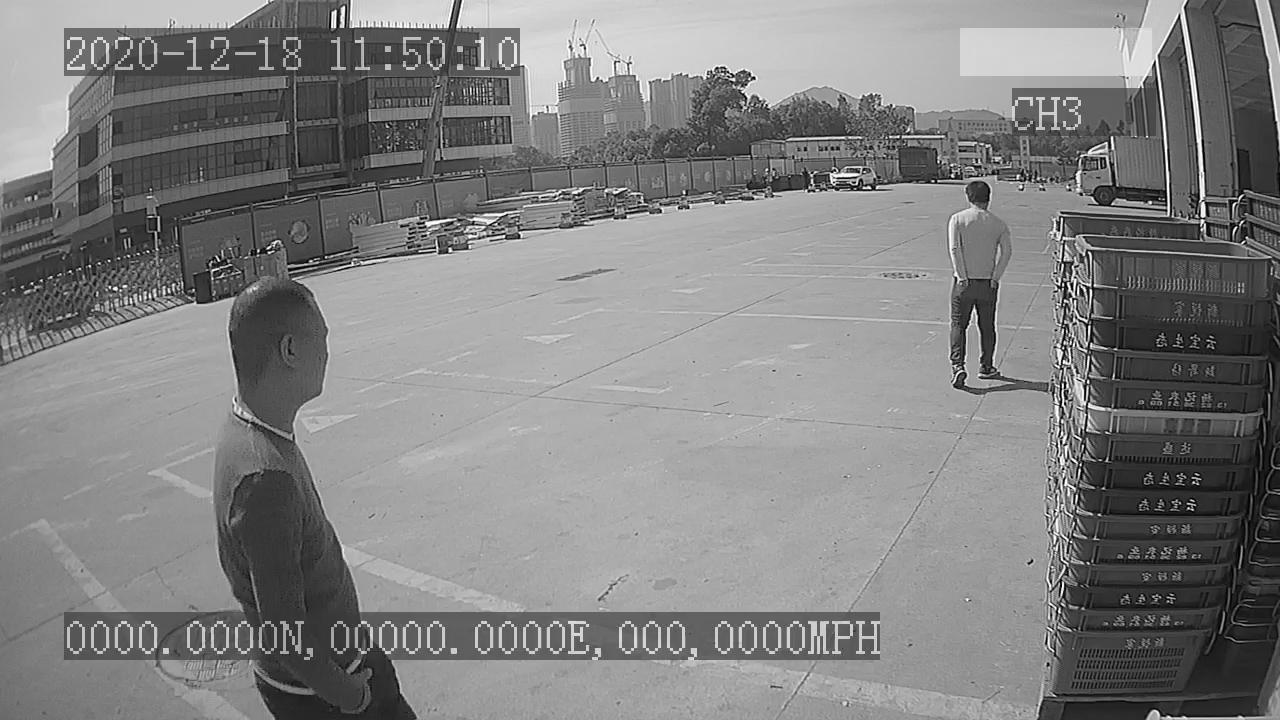person: (940, 176, 1015, 394)
